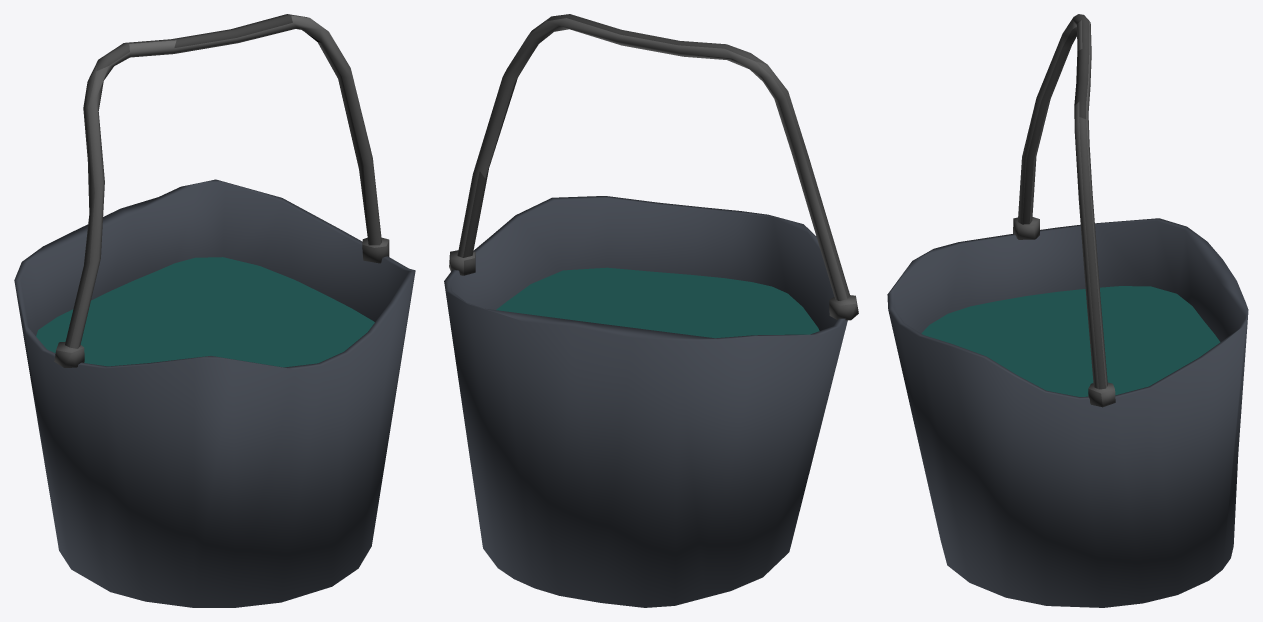
Rendered from BucketOWater.fbx.
3 views of the same model, side by side, from view 1: azimuth 30°, elevation 25°; view 2: azimuth 150°, elevation 25°; view 3: azimuth 270°, elevation 25° (orthographic). The views are drawn at different scales.
Parts seen in each view (by area): view 1: Bucket; view 2: Bucket; view 3: Bucket.
Boxes of the visible parts, x1,y1,x2,y2 form: Bucket: (14, 14, 415, 607); Bucket: (444, 14, 858, 607); Bucket: (887, 14, 1248, 607).
Bounding box in the file's own units: 274 × 367 × 246.
